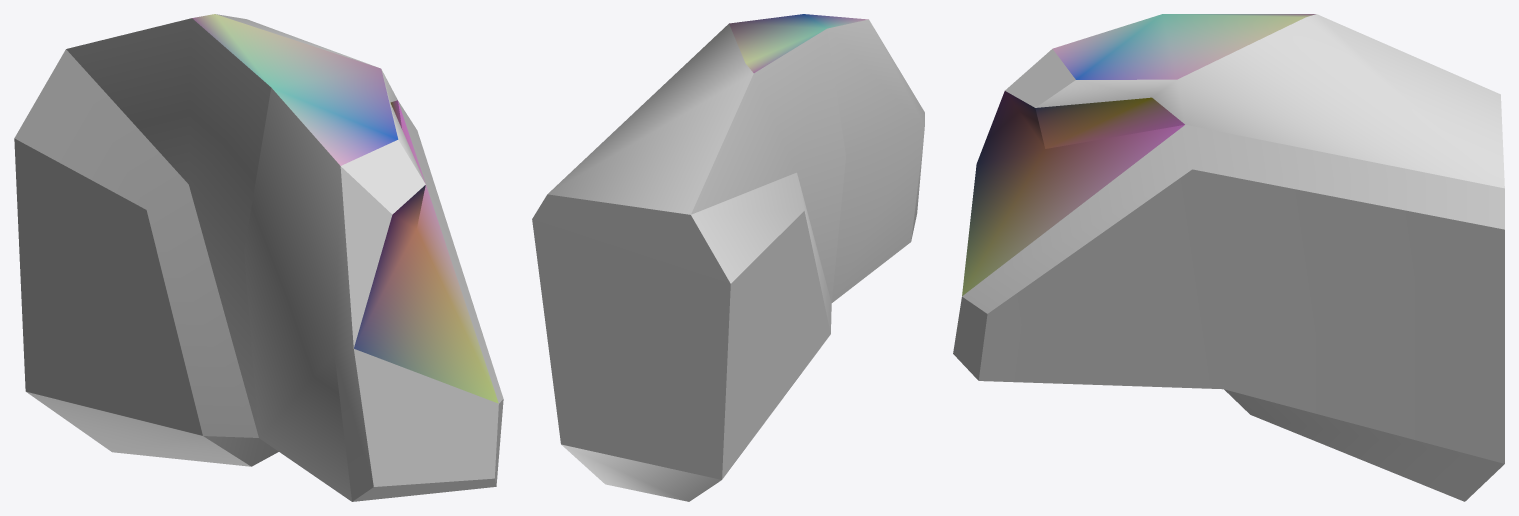
Rendered from Temple_DebrisB.glb.
3 views of the same model, side by side, from view 1: azimuth 30°, elevation 25°; view 2: azimuth 150°, elevation 25°; view 3: azimuth 270°, elevation 25° (orthographic). The views are drawn at different scales.
Visible parts, largest first — view 1: MeshNode_1, MeshNode_0; view 2: MeshNode_1, MeshNode_0; view 3: MeshNode_1, MeshNode_0.
Boxes of the visible parts, x1=… form: MeshNode_1: x1=14, y1=14, x2=503, y2=501; MeshNode_0: x1=192, y1=14, x2=498, y2=403; MeshNode_1: x1=532, y1=19, x2=924, y2=501; MeshNode_0: x1=729, y1=14, x2=868, y2=72; MeshNode_1: x1=953, y1=14, x2=1504, y2=501; MeshNode_0: x1=962, y1=14, x2=1315, y2=295.
Bounding box in the file's own units: 6.68 × 12.57 × 14.14.
